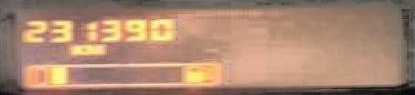0: (146, 16, 173, 40)
1: (80, 19, 95, 40)
2: (17, 18, 44, 41)
3: (95, 17, 120, 41), (46, 18, 71, 41)
9: (122, 17, 146, 40)
X: (66, 42, 84, 55), (84, 43, 104, 54)
